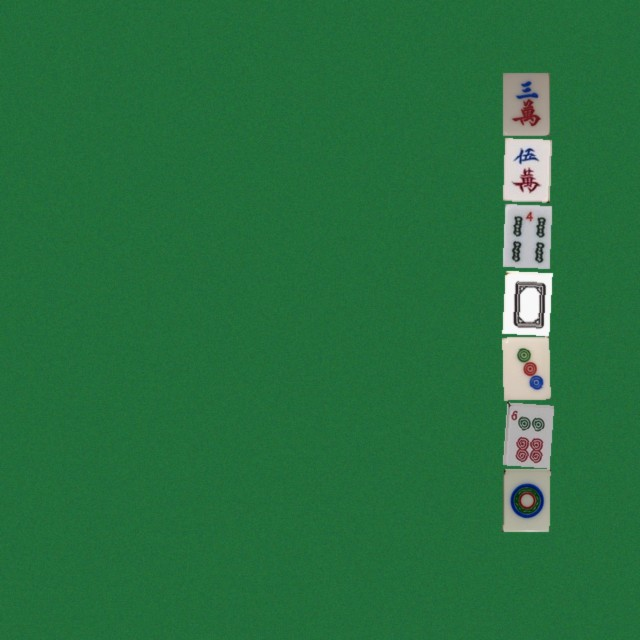tile: (502, 72, 549, 135), (502, 138, 549, 201), (502, 204, 549, 267), (502, 270, 549, 333), (502, 336, 549, 399), (502, 402, 549, 465), (502, 468, 549, 531)
